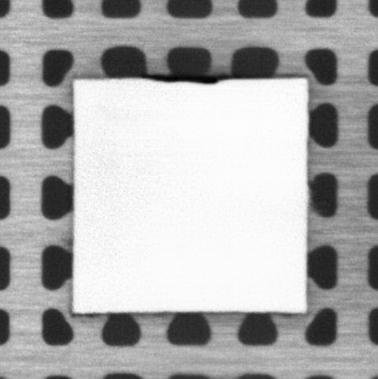DIE_BROKEN: (143, 72, 228, 85)
